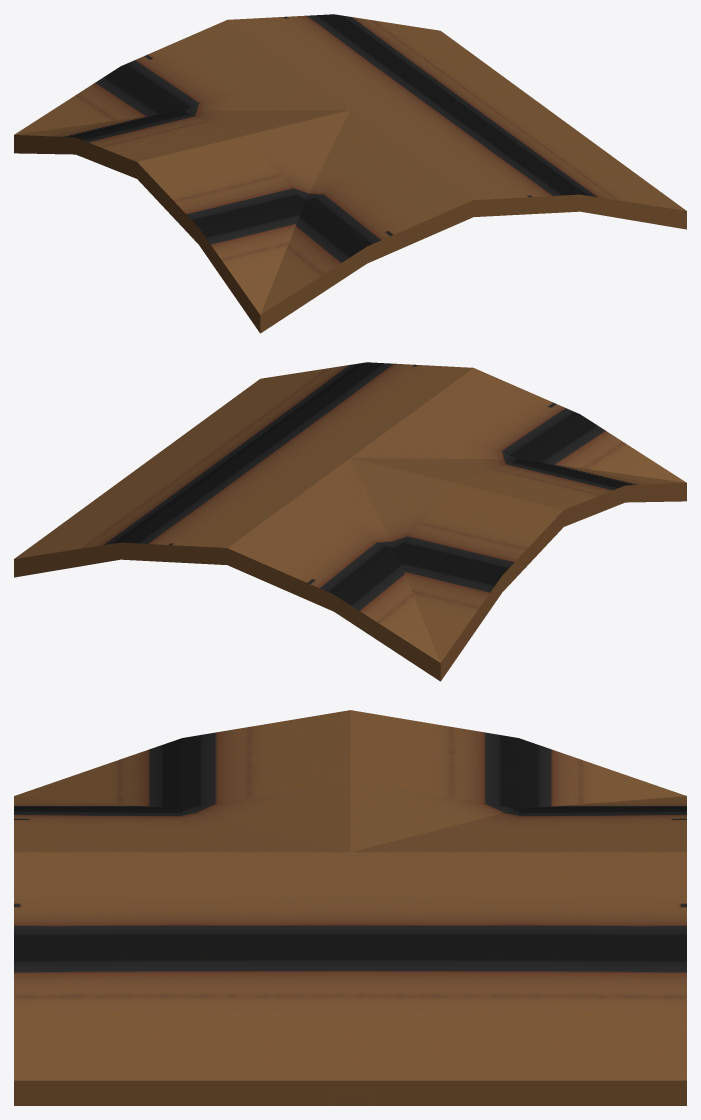
The model's file is IronRailTop2.fbx.
3 renders of one model, top to bottom at view 1: azimuth 30°, elevation 25°; view 2: azimuth 150°, elevation 25°; view 3: azimuth 270°, elevation 25°, orthographic. The views are drawn at different scales.
Visible parts, largest first — view 1: iron rail Ground1.002; view 2: iron rail Ground1.002; view 3: iron rail Ground1.002.
Part boxes in pixels (box(x1,y1,x2,y2)): iron rail Ground1.002: box(14, 14, 686, 333); iron rail Ground1.002: box(14, 362, 686, 681); iron rail Ground1.002: box(14, 710, 686, 1105).
Size of the model in its own units: 100 by 18.26 by 100.
